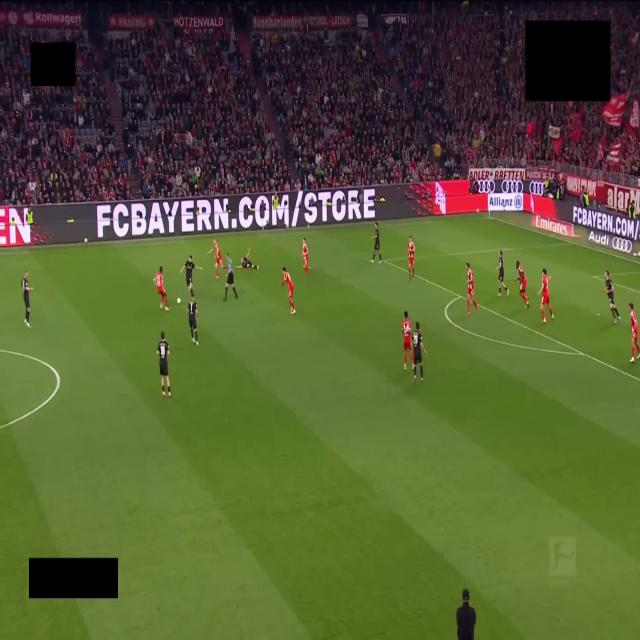ball: (177, 298, 181, 304)
player: (157, 331, 170, 397), (604, 271, 620, 324), (538, 269, 554, 322), (412, 322, 425, 383), (181, 256, 201, 290), (281, 267, 295, 314), (154, 266, 168, 311), (21, 272, 32, 328), (208, 240, 224, 278), (629, 303, 639, 363), (466, 263, 478, 313), (516, 261, 529, 307), (402, 312, 412, 370), (188, 289, 198, 345), (497, 251, 508, 295), (371, 223, 381, 263), (241, 249, 258, 270), (302, 238, 310, 275), (408, 236, 414, 279)
referee: (224, 253, 237, 301)
